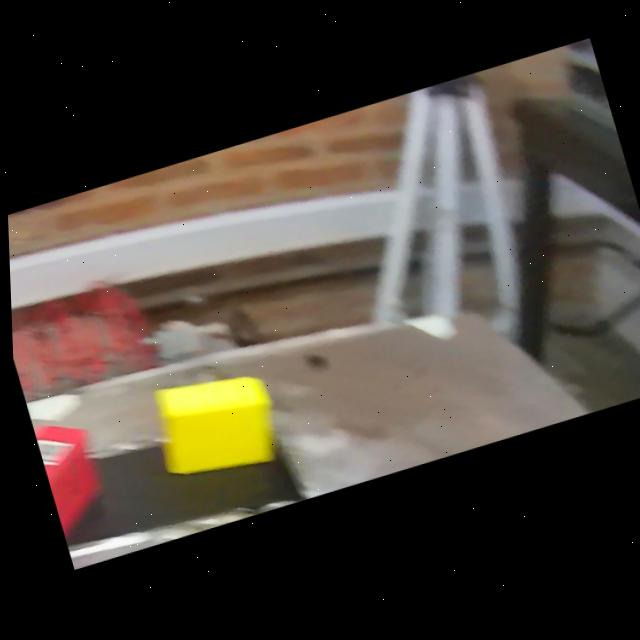redBox: (27, 404, 119, 553)
yellowBox: (135, 346, 294, 504)
